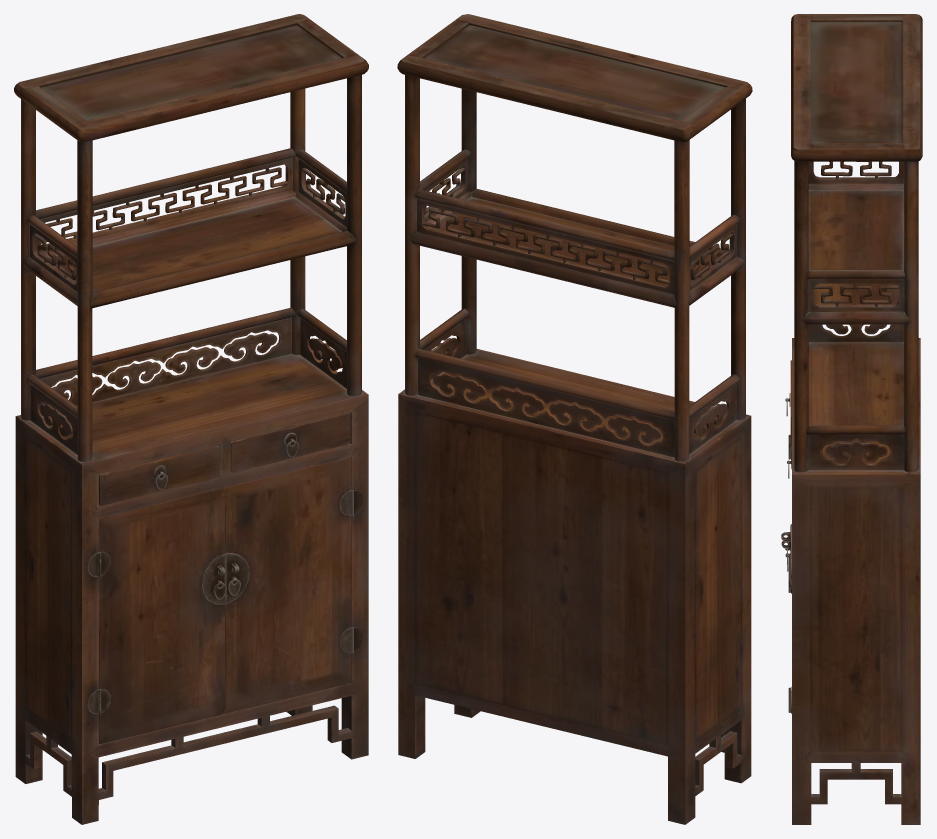
File: chinese_cabinet.glb
3 renders of one model, left to right at view 1: azimuth 30°, elevation 25°; view 2: azimuth 150°, elevation 25°; view 3: azimuth 270°, elevation 25°, orthographic. The views are drawn at different scales.
Visible parts, largest first — view 1: chinese_cabinet; view 2: chinese_cabinet; view 3: chinese_cabinet.
Boxes of the visible parts, <box> form: chinese_cabinet: <box>14,14,368,824</box>; chinese_cabinet: <box>397,14,752,824</box>; chinese_cabinet: <box>781,14,922,824</box>.
Bounding box in the file's own units: 1.26 × 2.87 × 0.5452.
1 material, 1 textured.
